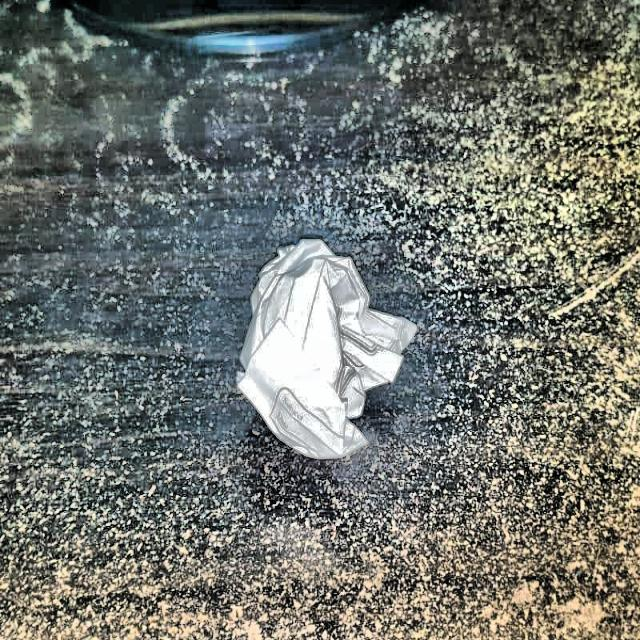paper: (242, 238, 417, 469)
